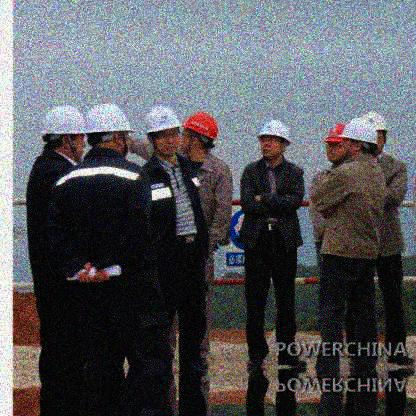helmet: (39, 107, 86, 161), (87, 106, 138, 155), (144, 105, 179, 156), (182, 110, 219, 157), (254, 118, 293, 160), (340, 119, 378, 156), (325, 125, 347, 163)
